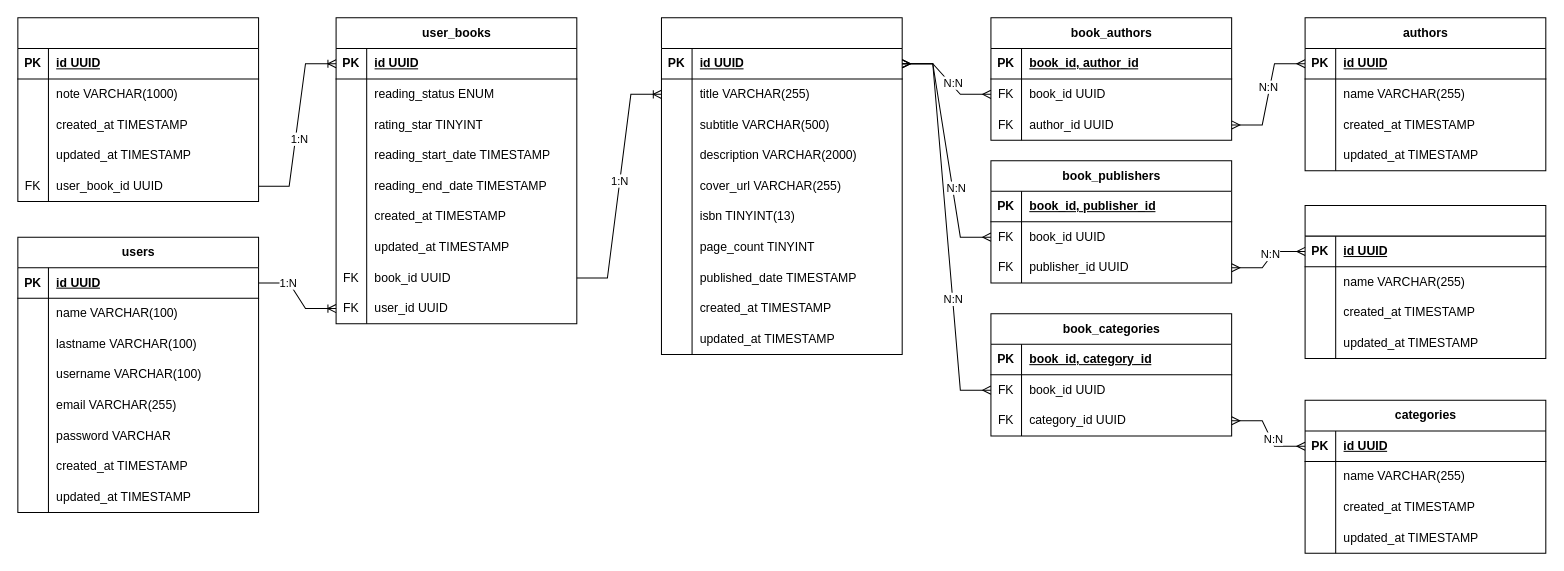
Some shapes in this 1564 by 571 pixel diagram are drawn without their labels. Each missing label, with the box of its shape:
books: (660, 17, 902, 354)
publishers: (1304, 205, 1546, 359)
user_book_annotations: (17, 17, 259, 201)
